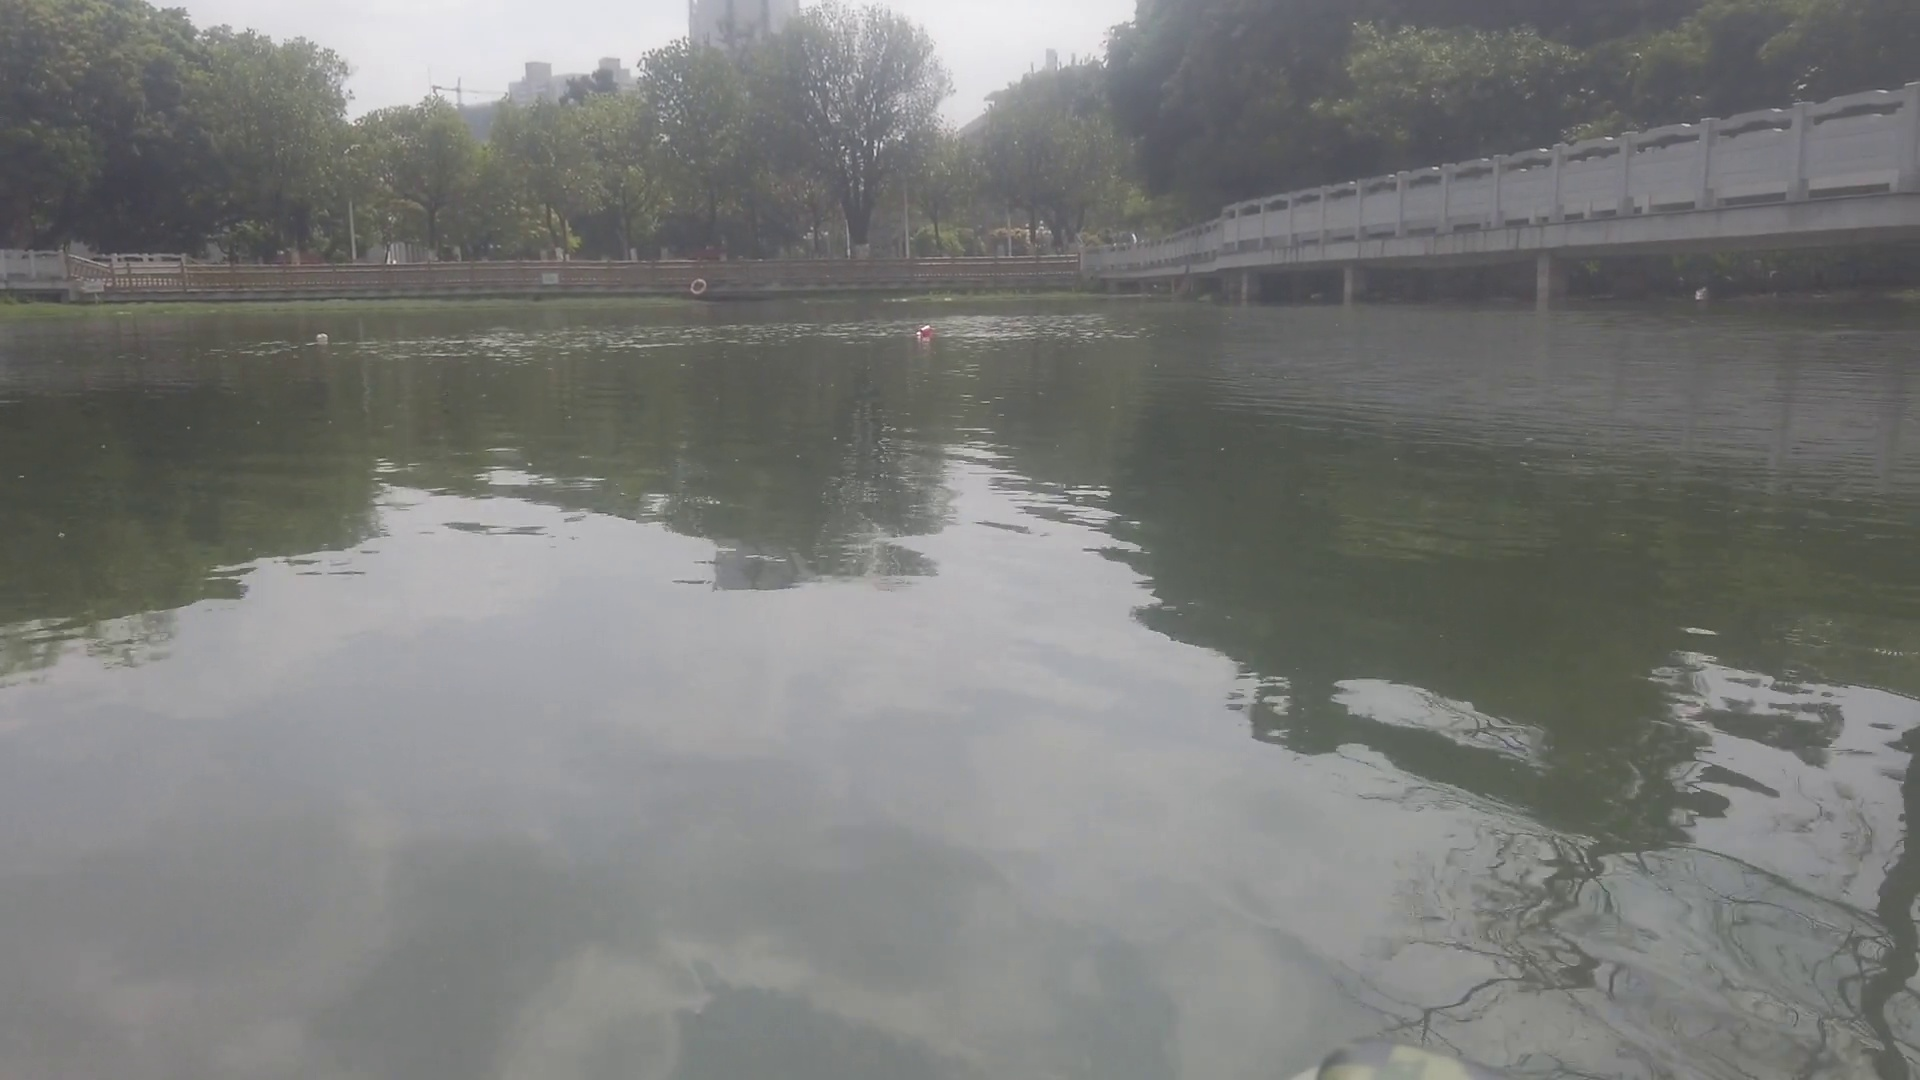bottle: (913, 320, 934, 342), (313, 326, 328, 342)
